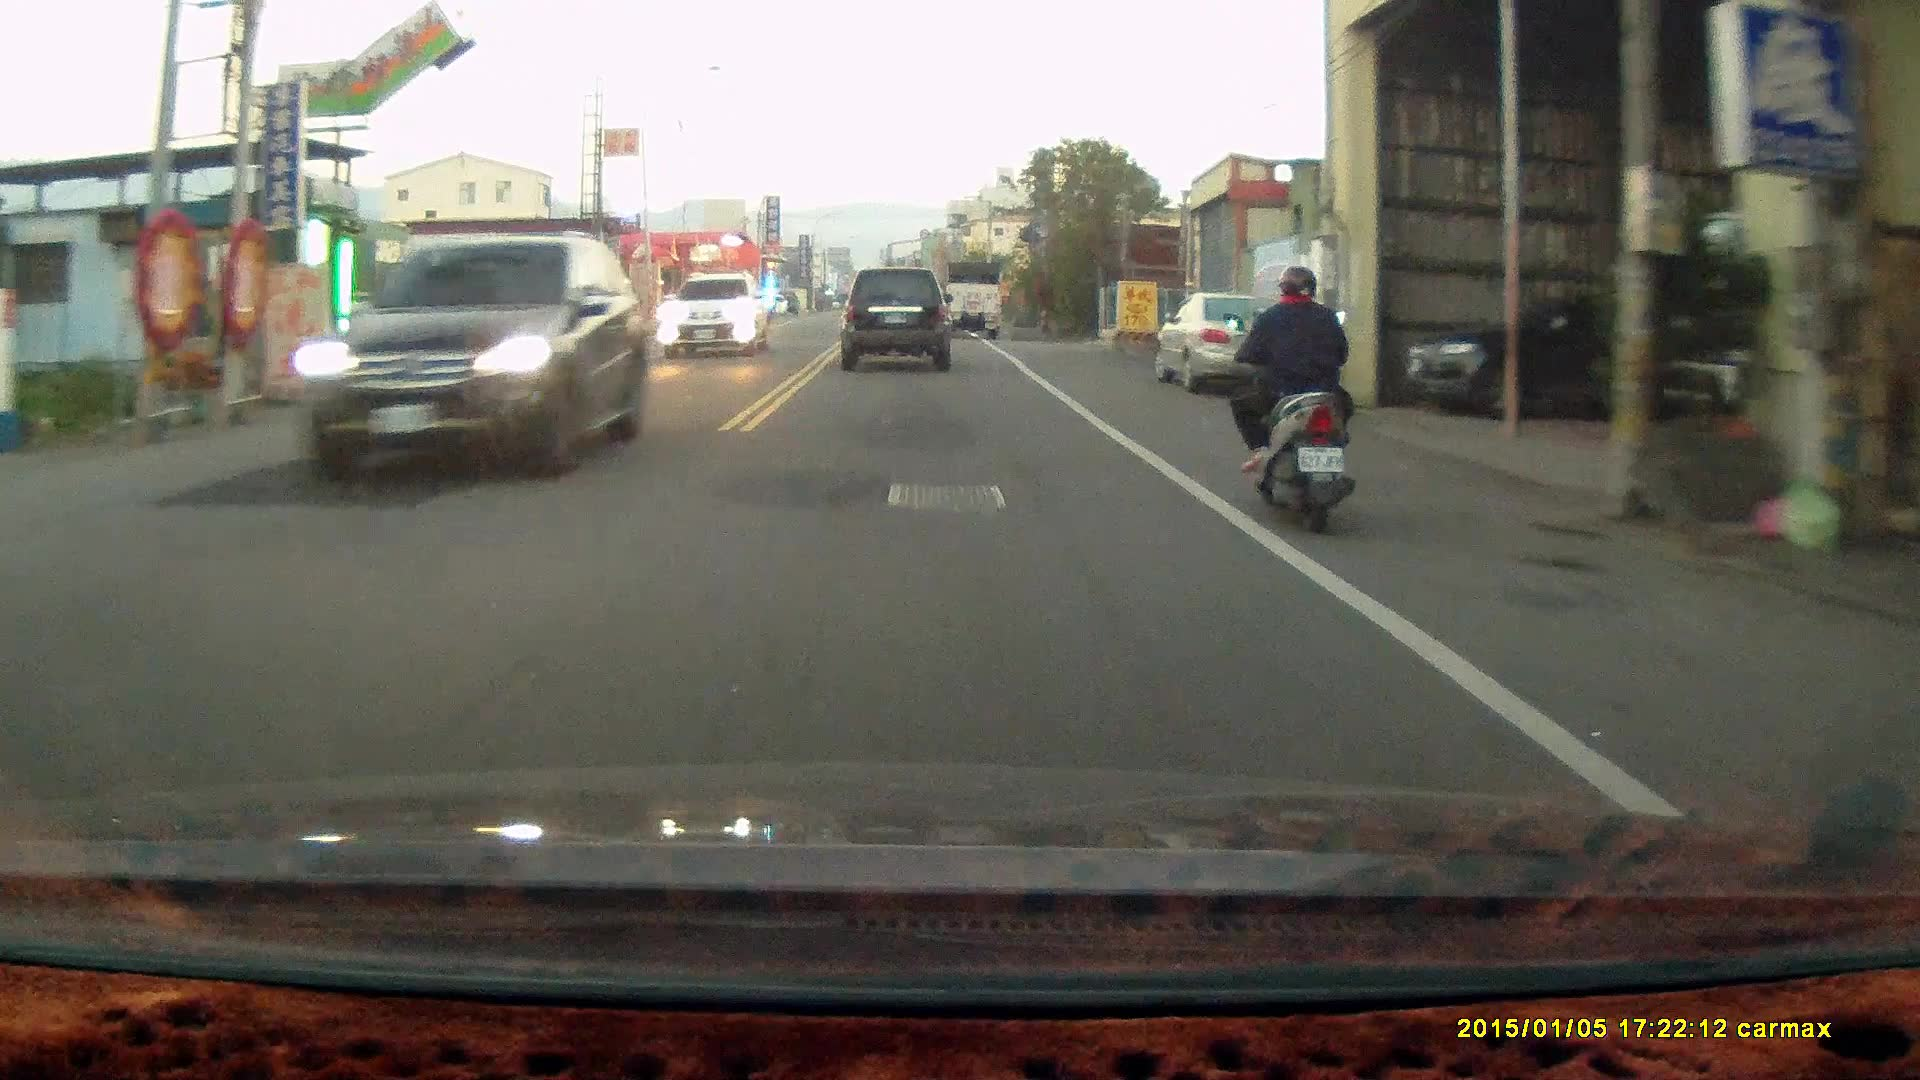rider: (1216, 259, 1354, 532)
vehicle: (299, 232, 652, 482), (1403, 295, 1688, 419), (1155, 288, 1314, 396), (841, 268, 955, 372), (658, 275, 774, 363), (934, 259, 1004, 338)
